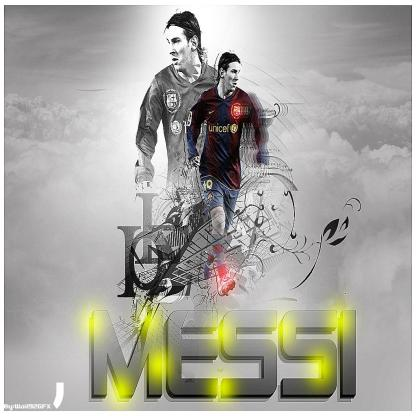face: (167, 26, 192, 72), (226, 63, 242, 92)
